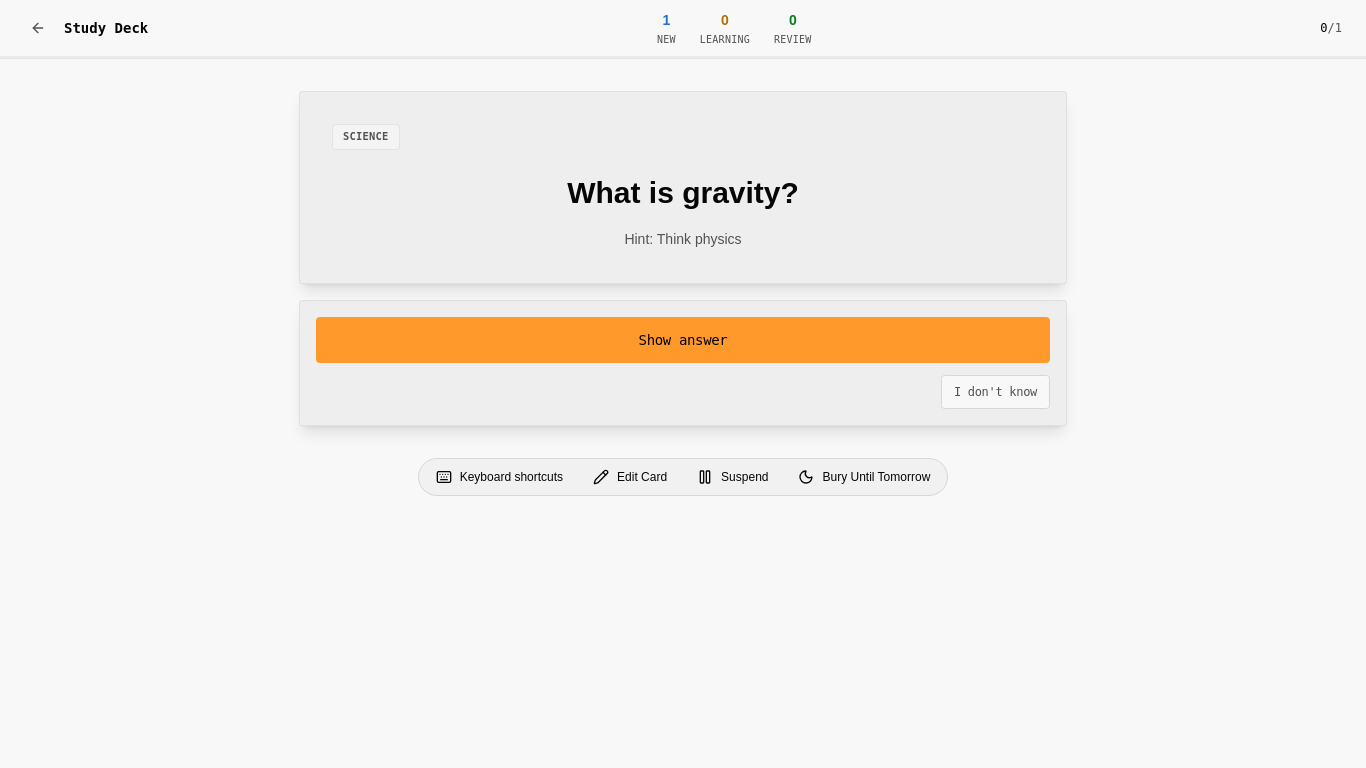
Test case: StudyScreen › reveals plain-card answer and rating options
Expected: the heading "What is gravity?" is shown, [567,174,799,211]
Click the button "Show answer": (683, 340) [316,317,1050,363]
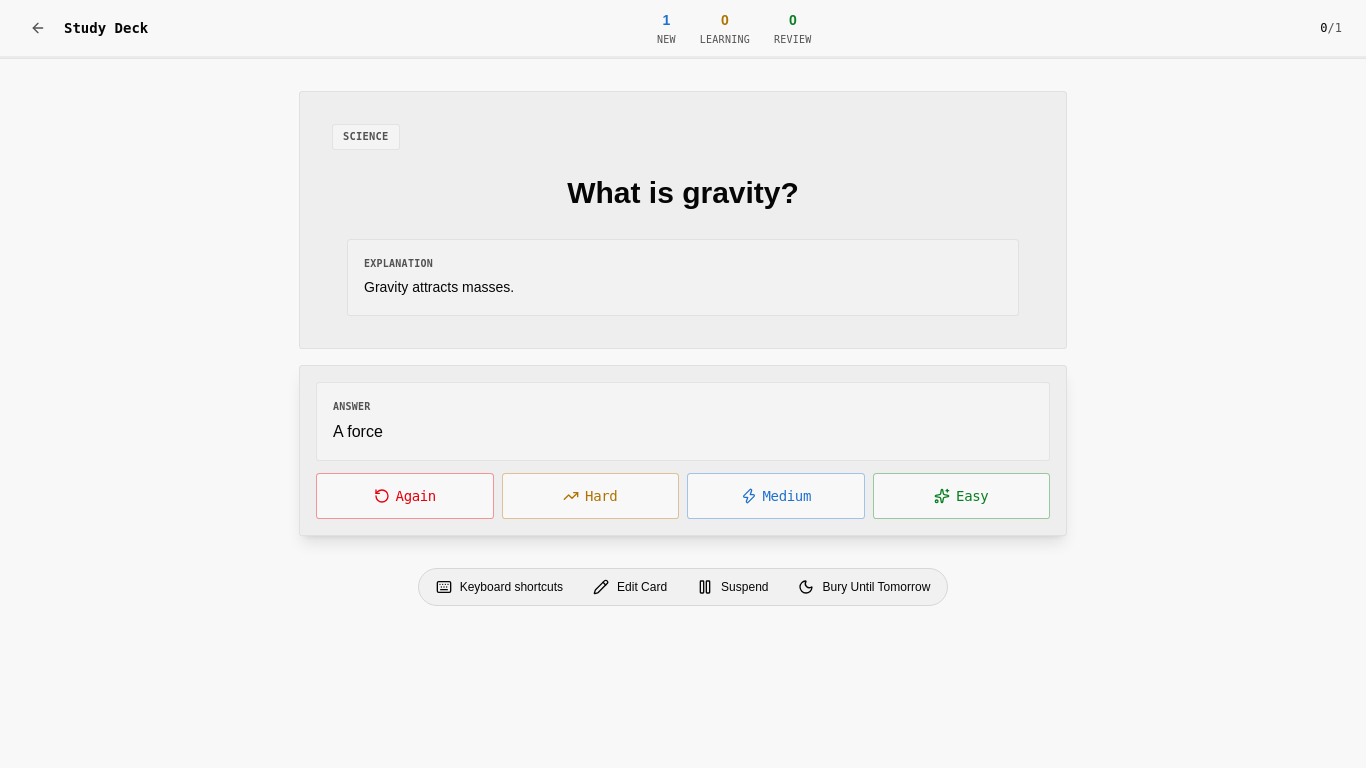
Now the text "A force" is shown, box [333,423,383,440]
Now the button "Again" is shown, box [316,473,494,519]
Now the button "Easy" is shown, box [872,473,1050,519]
